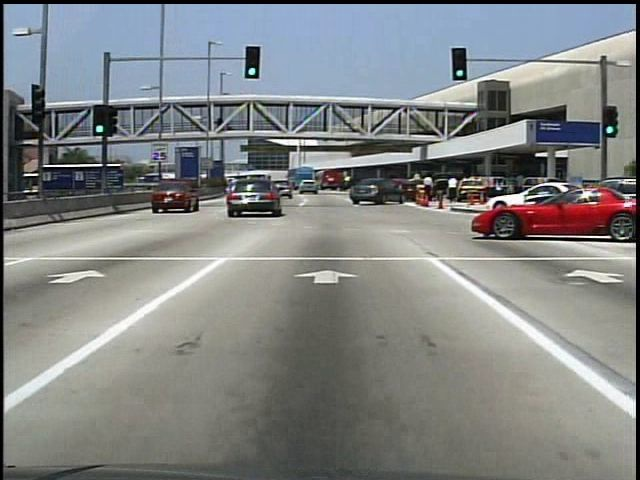person: (420, 172, 437, 208), (492, 178, 507, 212), (448, 175, 463, 203), (217, 118, 226, 135)
